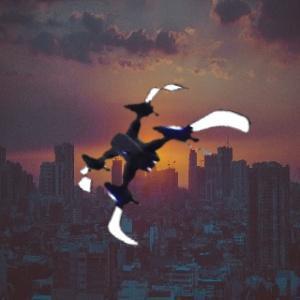drone: (61, 76, 237, 252)
